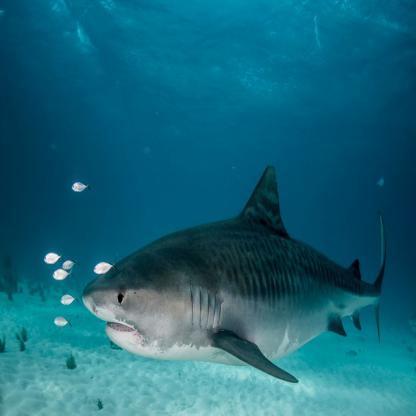tiger-shark: (83, 165, 385, 384)
